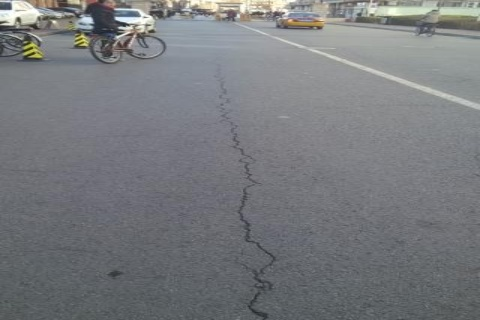A: (215, 66, 279, 320)
